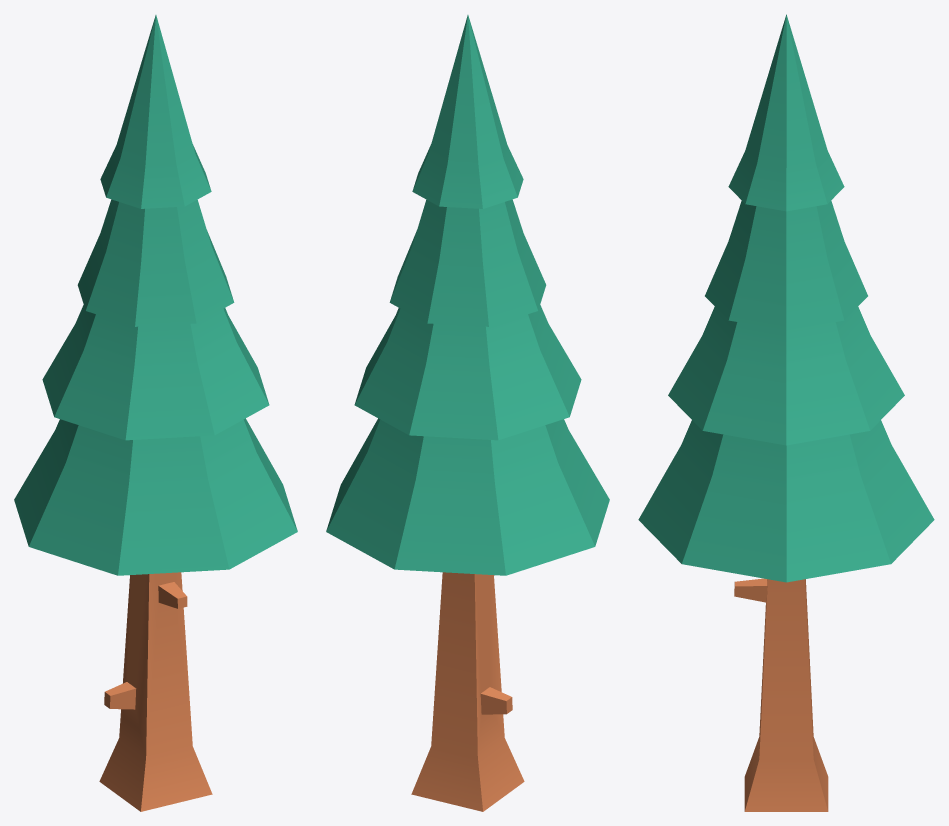
Rendered from treeHigh.obj.
The picture shows the model from 3 angles, left to right: view 1: azimuth 30°, elevation 25°; view 2: azimuth 150°, elevation 25°; view 3: azimuth 270°, elevation 25°; orthographic projection.
Visible parts, largest first — view 1: treeHigh; view 2: treeHigh; view 3: treeHigh.
Boxes of the visible parts, x1,y1,x2,y2 form: treeHigh: (14,15,297,811); treeHigh: (326,15,609,811); treeHigh: (638,14,934,811).
Size of the model in its own units: 1.02 by 2.97 by 1.02.
